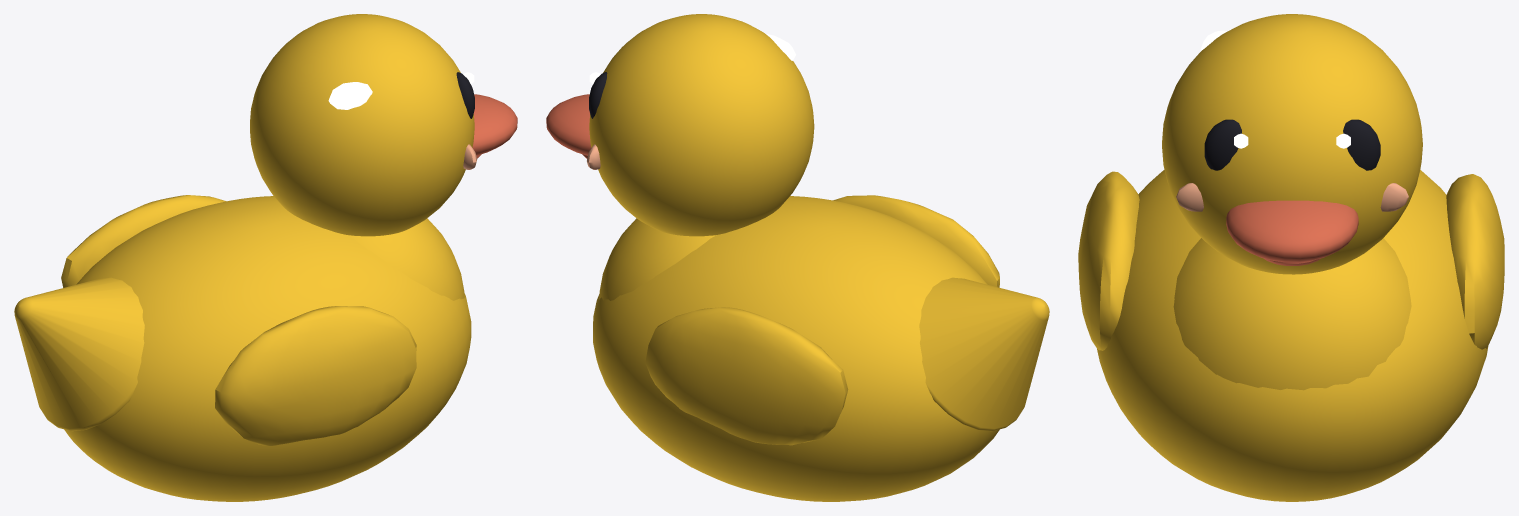
Rendered from rubber_duck.glb.
3 views of the same model, side by side, from view 1: azimuth 30°, elevation 25°; view 2: azimuth 150°, elevation 25°; view 3: azimuth 270°, elevation 25° (orthographic). The views are drawn at different scales.
Visible parts, largest first — view 1: rubber_duck; view 2: rubber_duck; view 3: rubber_duck.
Boxes of the visible parts, x1=… form: rubber_duck: x1=14, y1=14, x2=517, y2=501; rubber_duck: x1=546, y1=14, x2=1049, y2=501; rubber_duck: x1=1078, y1=14, x2=1504, y2=501.
Bounding box in the file's own units: 1.42 × 1.18 × 0.9144.
Materials: 1 (1 with a texture image).
